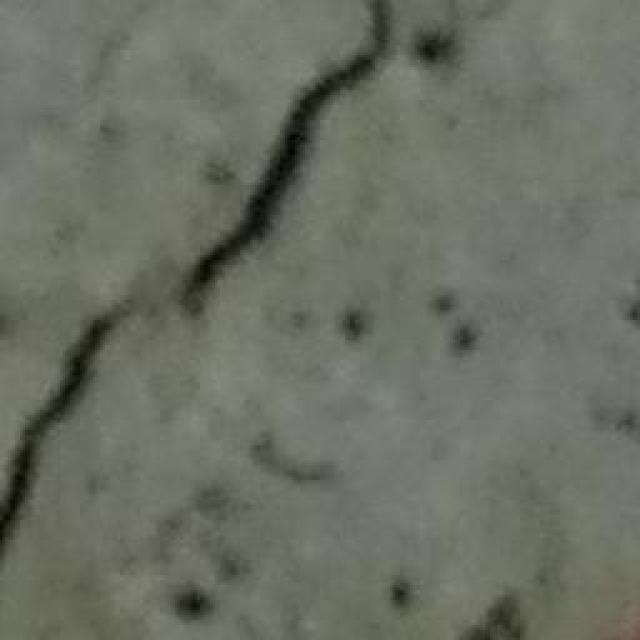Annular: (411, 19, 462, 89)
Diagonal: (0, 2, 401, 586)
